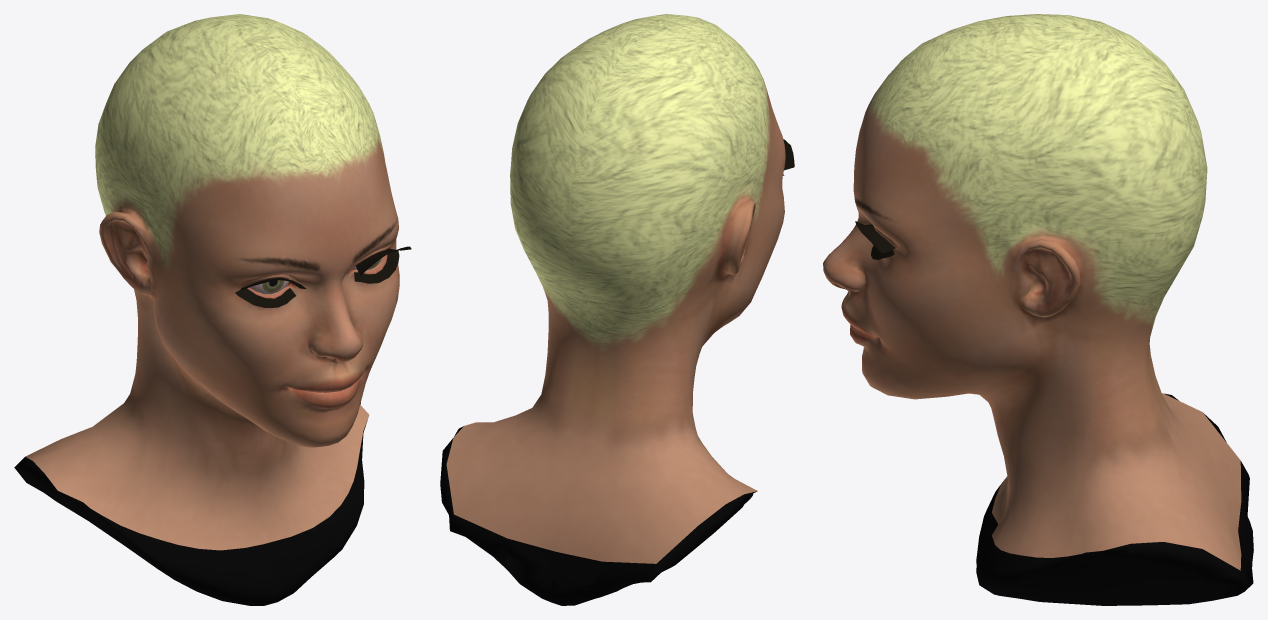
The model's file is Head_idle.obj.
The picture shows the model from 3 angles, left to right: view 1: azimuth 30°, elevation 25°; view 2: azimuth 150°, elevation 25°; view 3: azimuth 270°, elevation 25°; orthographic projection. The views are drawn at different scales.
Visible parts, largest first — view 1: BodyParts; view 2: BodyParts; view 3: BodyParts.
Boxes of the visible parts, left/top/right/bottom form: BodyParts: left=14, top=14, right=411, bottom=605; BodyParts: left=440, top=14, right=794, bottom=605; BodyParts: left=823, top=14, right=1253, bottom=605.
Size of the model in its own units: 21.19 by 35.94 by 24.44.
Materials: 2 (2 with a texture image).
